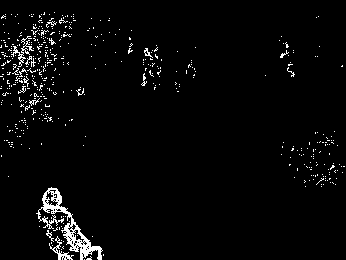person: (36, 186, 105, 260)
